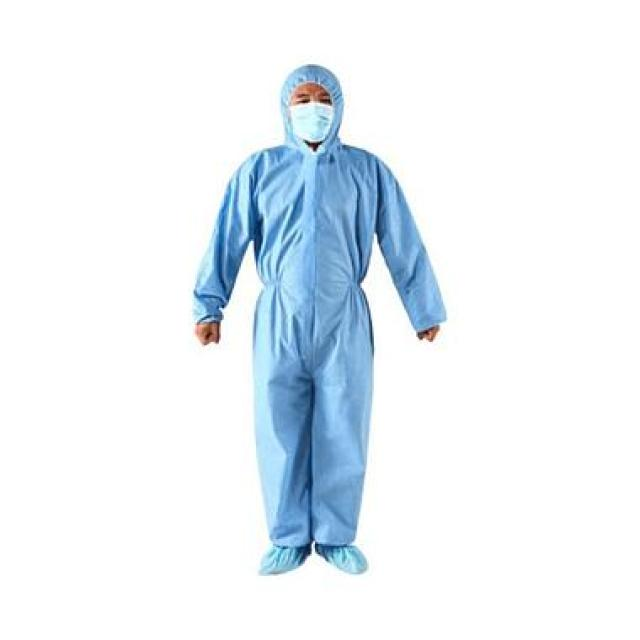Coverall: (160, 40, 455, 593)
Mask: (269, 103, 359, 173)
